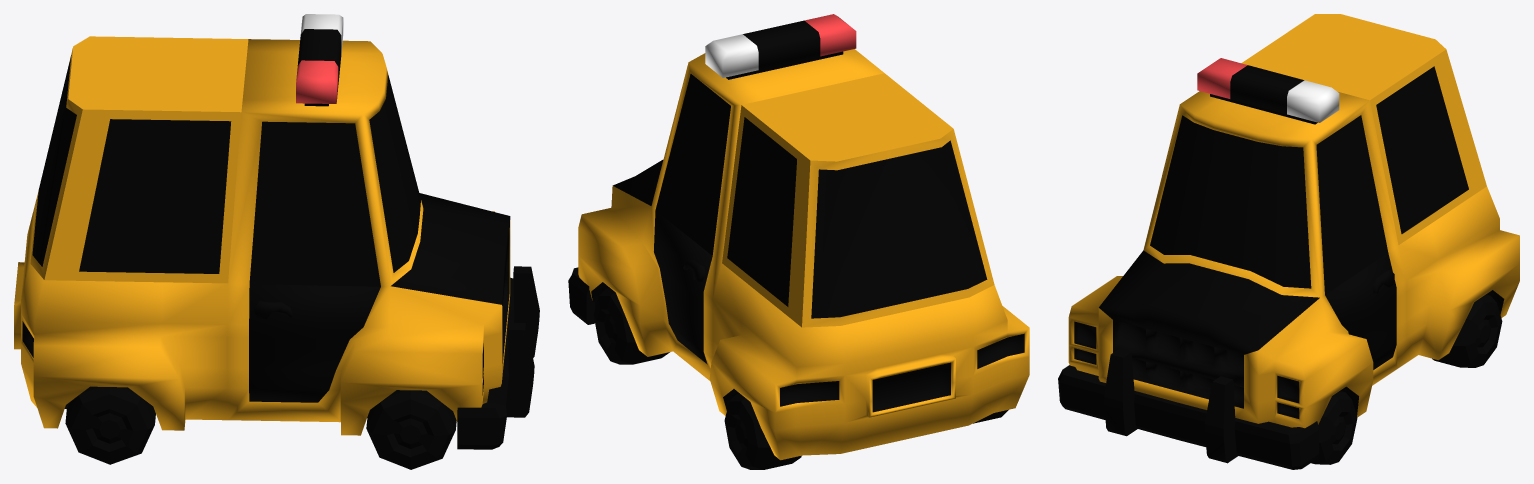
The model's file is ToyObject_142.fbx.
The picture shows the model from 3 angles, left to right: view 1: azimuth 30°, elevation 25°; view 2: azimuth 150°, elevation 25°; view 3: azimuth 270°, elevation 25°; orthographic projection. The views are drawn at different scales.
Parts seen in each view (by area): view 1: object-1.056; view 2: object-1.056; view 3: object-1.056.
Boxes of the visible parts, x1,y1,x2,y2 form: object-1.056: [14, 14, 539, 469]; object-1.056: [568, 14, 1029, 469]; object-1.056: [1058, 14, 1519, 469].
Bounding box in the file's own units: 0.1628 × 0.1156 × 0.1483.
